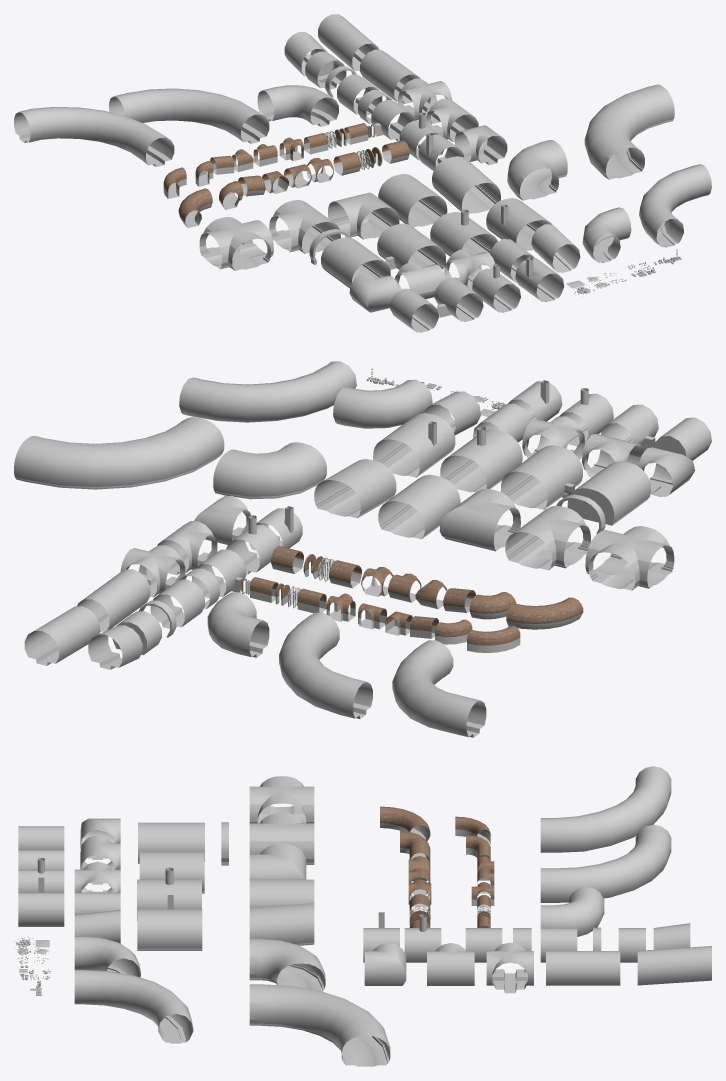
The model's file is Sewers.fbx.
3 views of the same model, one above another, from view 1: azimuth 30°, elevation 25°; view 2: azimuth 150°, elevation 25°; view 3: azimuth 270°, elevation 25° (orthographic). The views are drawn at different scales.
Visible parts, largest first — view 1: Serwers_015, Serwers01_011, Serwers_014, Serwers02_007, Serwers01_003, Serwers01_010, Serwers01_009, Serwers_013, Serwers01_002, Serwers01_007, Serwers01_005, Serwers01_004 (+29 smaller); view 2: Serwers01_011, Serwers02_007, Serwers_014, Serwers_015, Serwers01_010, Serwers01_003, Serwers01_002, Serwers01_004, Serwers02_006, Serwers01_008, Serwers01_006, Serwers01_007 (+38 smaller); view 3: Serwers01_011, Serwers_015, Serwers_014, Serwers02_007, Serwers01_010, Serwers01_008, Serwers_004, Serwers_003, Serwers01_003, Serwers01_009, Serwers01_002, Serwers01 (+26 smaller).
Part boxes in pixels (x1=…): Serwers_015: x1=14, y1=107, x2=174, y2=166; Serwers01_011: x1=584, y1=84, x2=674, y2=179; Serwers_014: x1=109, y1=88, x2=269, y2=143; Serwers02_007: x1=639, y1=164, x2=711, y2=247; Serwers01_003: x1=199, y1=217, x2=273, y2=270; Serwers01_010: x1=507, y1=140, x2=567, y2=200; Serwers01_009: x1=432, y1=156, x2=500, y2=213; Serwers_013: x1=257, y1=85, x2=338, y2=126; Serwers01_002: x1=269, y1=200, x2=340, y2=253; Serwers01_007: x1=378, y1=174, x2=447, y2=227; Serwers01_005: x1=328, y1=192, x2=399, y2=239; Serwers01_004: x1=377, y1=223, x2=445, y2=269; Serwers01_011: x1=14, y1=417, x2=224, y2=489; Serwers02_007: x1=179, y1=361, x2=356, y2=422; Serwers_014: x1=279, y1=612, x2=372, y2=718; Serwers_015: x1=392, y1=640, x2=486, y2=737; Serwers01_010: x1=213, y1=442, x2=326, y2=499; Serwers01_003: x1=585, y1=526, x2=674, y2=590; Serwers01_002: x1=505, y1=505, x2=590, y2=570; Serwers01_004: x1=500, y1=445, x2=582, y2=509; Serwers02_006: x1=333, y1=379, x2=432, y2=428; Serwers01_008: x1=373, y1=413, x2=455, y2=477; Serwers01_006: x1=440, y1=426, x2=522, y2=492; Serwers01_007: x1=378, y1=474, x2=460, y2=539; Serwers01_011: x1=249, y1=984, x2=390, y2=1066; Serwers_015: x1=540, y1=766, x2=671, y2=852; Serwers_014: x1=540, y1=824, x2=671, y2=902; Serwers02_007: x1=74, y1=969, x2=193, y2=1043; Serwers01_010: x1=249, y1=938, x2=325, y2=991; Serwers01_008: x1=137, y1=895, x2=202, y2=950; Serwers_004: x1=637, y1=946, x2=711, y2=985; Serwers_003: x1=546, y1=951, x2=620, y2=985; Serwers01_003: x1=249, y1=776, x2=314, y2=823; Serwers01_009: x1=249, y1=903, x2=314, y2=945; Serwers01_002: x1=249, y1=813, x2=314, y2=864; Serwers01: x1=138, y1=822, x2=204, y2=863.
Bounding box in the file's own units: 11777 × 1056 × 12917.
